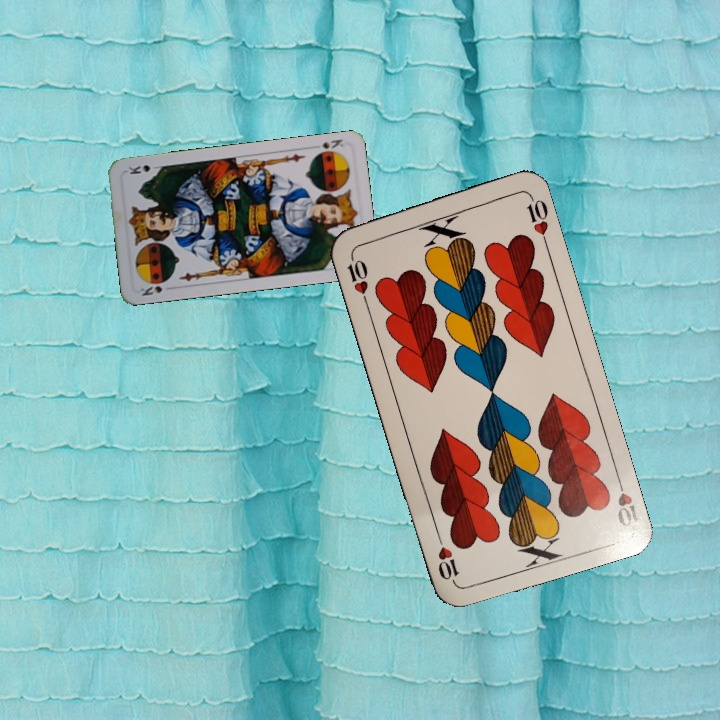H10: (611, 471, 642, 530), (343, 248, 371, 307)
SK: (308, 135, 346, 157), (136, 282, 165, 298)
